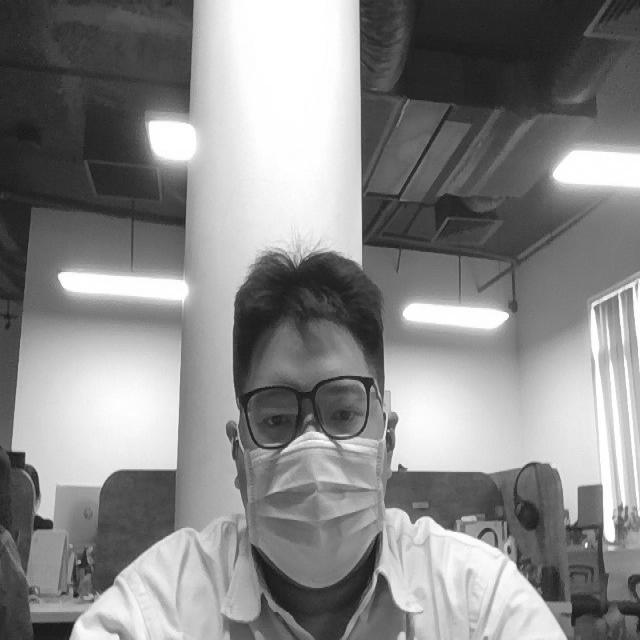fake: (244, 431, 390, 588)
real: (223, 237, 397, 592), (247, 380, 385, 441)
